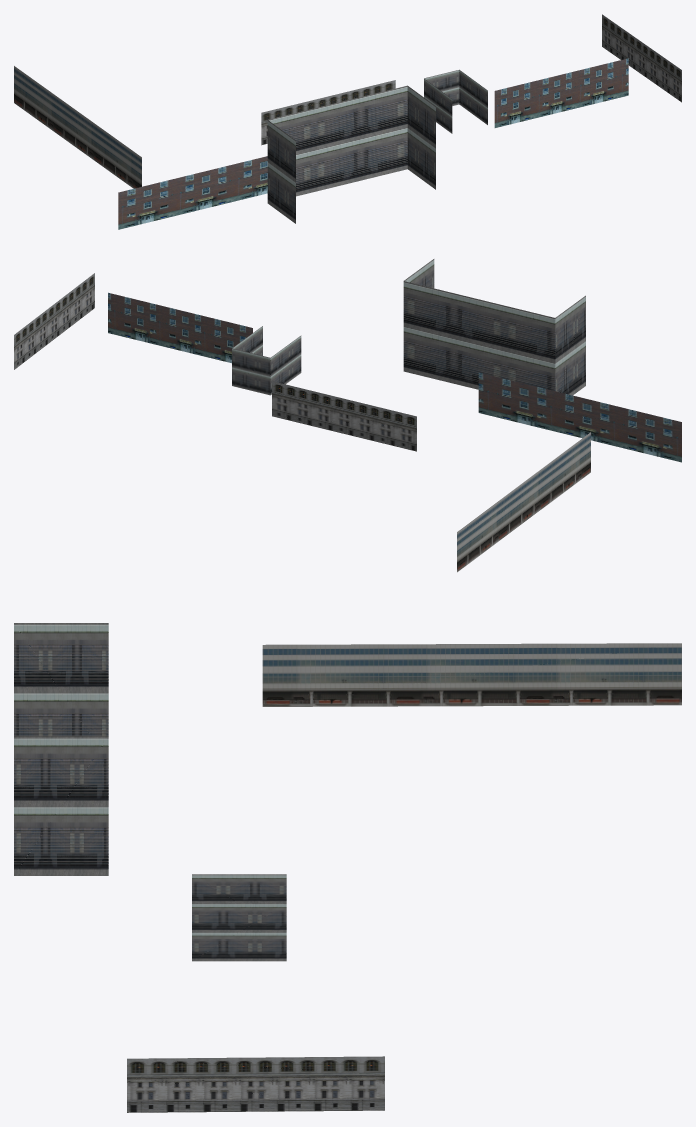
Rendered from Buildings_Exterior.FBX.
The picture shows the model from 3 angles, top to bottom: view 1: azimuth 30°, elevation 25°; view 2: azimuth 150°, elevation 25°; view 3: azimuth 270°, elevation 25°; orthographic projection. The views are drawn at different scales.
Visible parts, largest first — view 1: build8, build7, build3, build6, build4, build2, build1; view 2: build8, build7, build6, build3, build1, build2, build4; view 3: build6, build8, build4, build2.
Part boxes in pixels (x1,y1,x2,y2): build8: [267, 85, 435, 223]; build7: [118, 156, 267, 229]; build3: [494, 58, 628, 127]; build6: [14, 66, 141, 188]; build4: [602, 14, 681, 102]; build2: [424, 69, 487, 133]; build1: [261, 80, 395, 145]; build8: [403, 259, 585, 395]; build7: [478, 372, 681, 462]; build6: [457, 432, 590, 572]; build3: [108, 292, 252, 363]; build1: [272, 381, 416, 451]; build2: [232, 326, 301, 395]; build4: [14, 273, 94, 369]; build6: [262, 643, 681, 706]; build8: [14, 623, 108, 875]; build4: [127, 1056, 384, 1112]; build2: [192, 874, 286, 961].
Size of the model in its own units: 9239 by 1426 by 5803.
5 materials, 5 textured.
